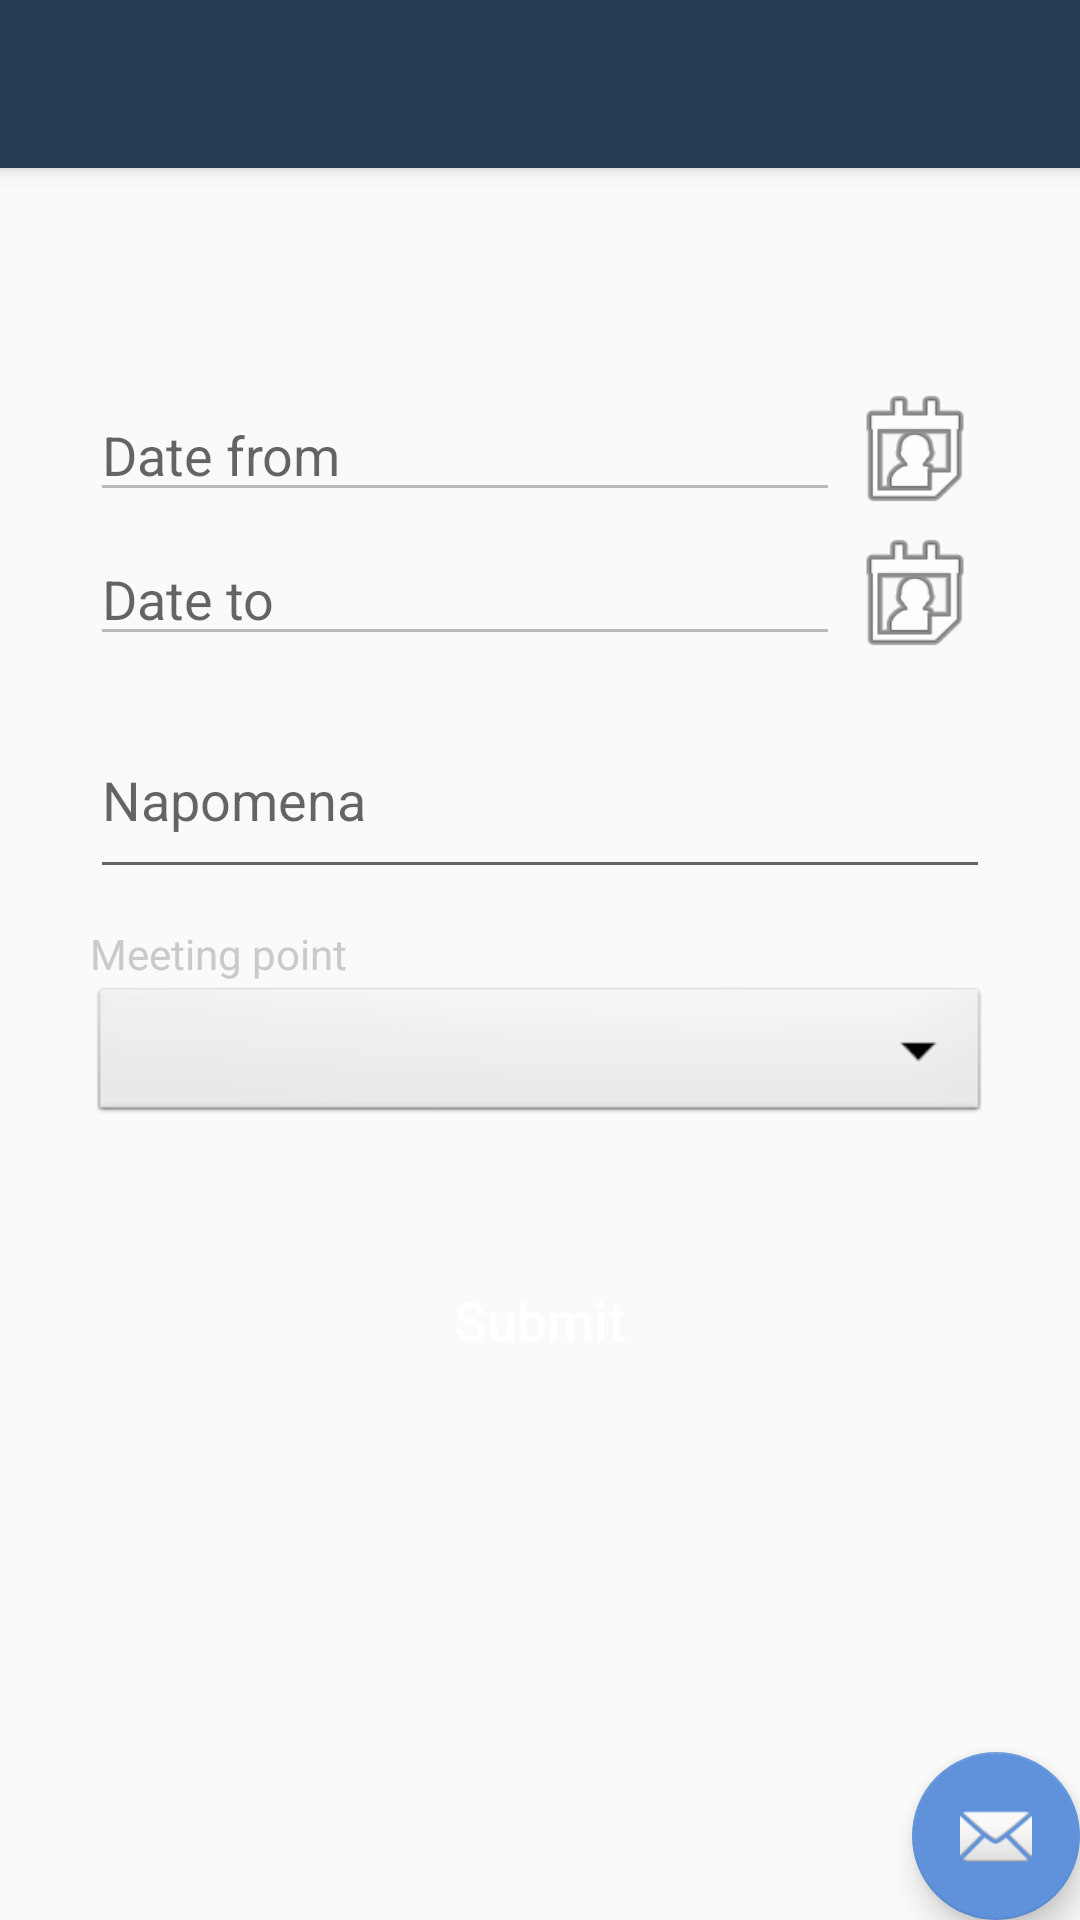

Named icons in this screenshot (1080px x 1920px) and their centers, [x,y]:
calendar: [915,448], [915,592]
email: [996,1836]
